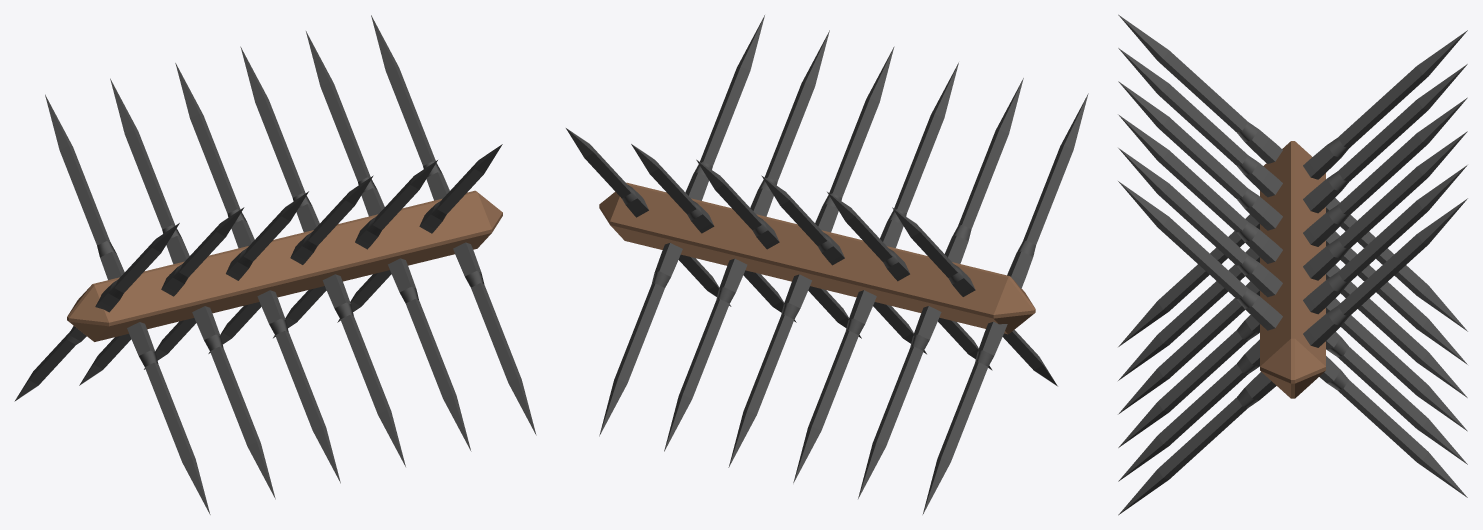
File: spike wall for SNAPSHOT.fbx
The picture shows the model from 3 angles, left to right: view 1: azimuth 30°, elevation 25°; view 2: azimuth 150°, elevation 25°; view 3: azimuth 270°, elevation 25°; orthographic projection. The views are drawn at different scales.
Visible parts, largest first — view 1: pCube15; view 2: pCube15; view 3: pCube15.
Part boxes in pixels (x1=…): pCube15: x1=14, y1=15, x2=536, y2=514; pCube15: x1=566, y1=15, x2=1088, y2=514; pCube15: x1=1118, y1=14, x2=1467, y2=515.
Bounding box in the file's own units: 796 × 528 × 528.
